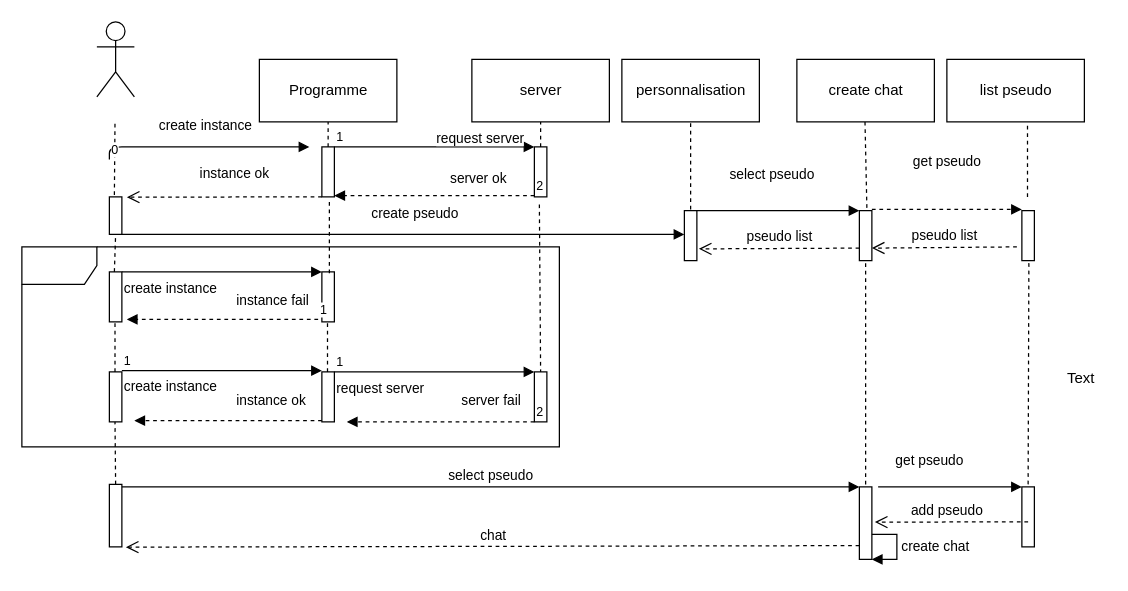
Image size: 1128x591. Some labels were removed from this diagram. Each missing label, with the box of its shape:
Actor: (96, 21, 134, 97)
alt: (21, 246, 559, 447)
